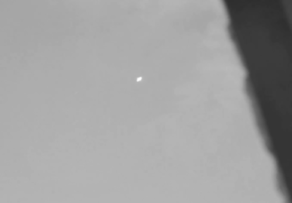Target: (138, 78, 142, 82)
